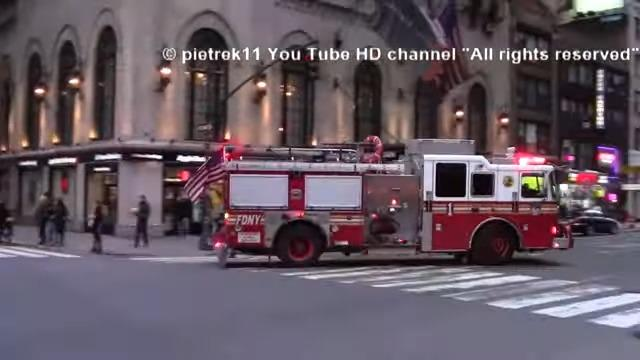Fire-engine: (206, 135, 576, 267)
